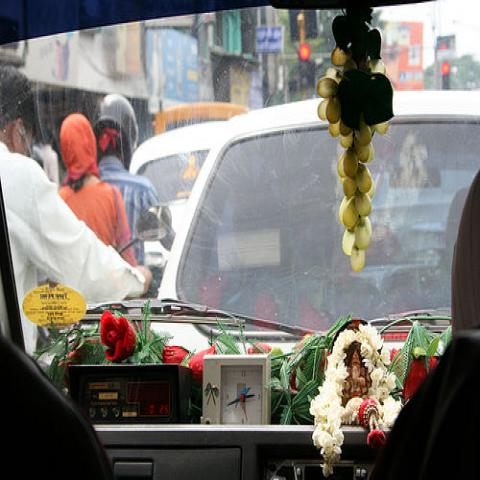car: (148, 90, 480, 364), (128, 121, 223, 296)
